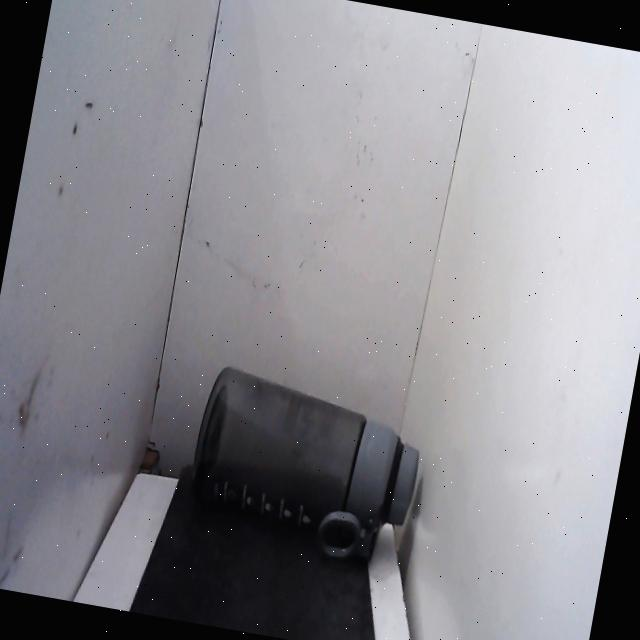plastico: (168, 331, 442, 588)
